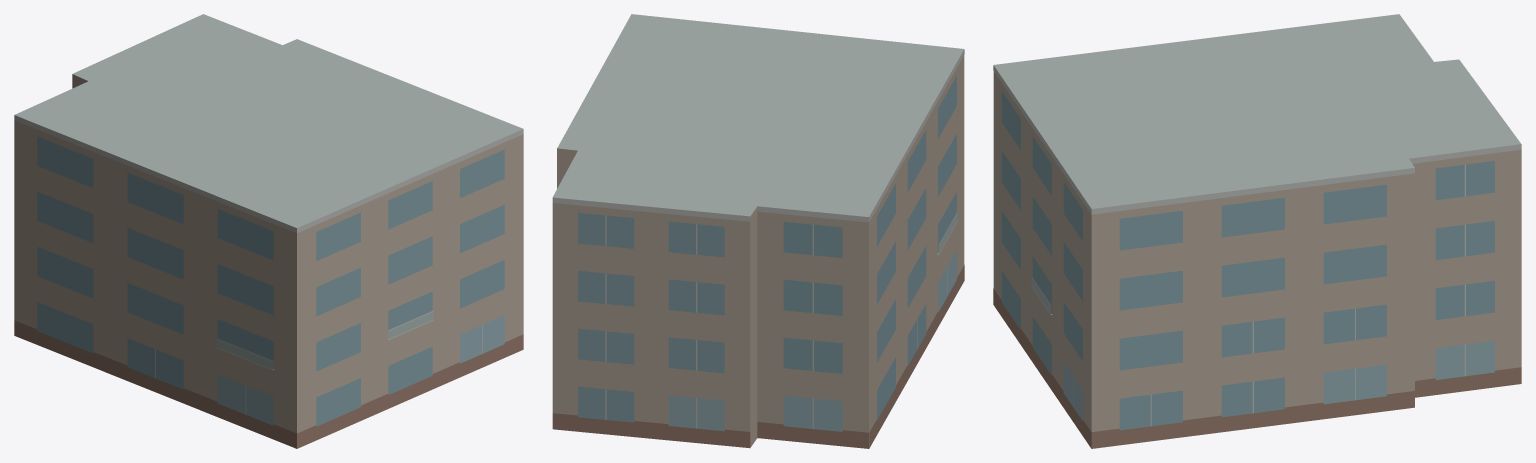
The model's file is survey-upis-32916293.glb.
3 renders of one model, left to right at view 1: azimuth 30°, elevation 25°; view 2: azimuth 150°, elevation 25°; view 3: azimuth 270°, elevation 25°, orthographic. The views are drawn at different scales.
Visible parts, largest first — view 1: survey-upis-32916293.tmp; view 2: survey-upis-32916293.tmp; view 3: survey-upis-32916293.tmp.
Part boxes in pixels (x1,y1,x2,y2): survey-upis-32916293.tmp: (14, 14, 523, 448); survey-upis-32916293.tmp: (552, 14, 964, 448); survey-upis-32916293.tmp: (993, 14, 1521, 448).
Bounding box in the file's own units: 18.33 × 10.5 × 20.96.
